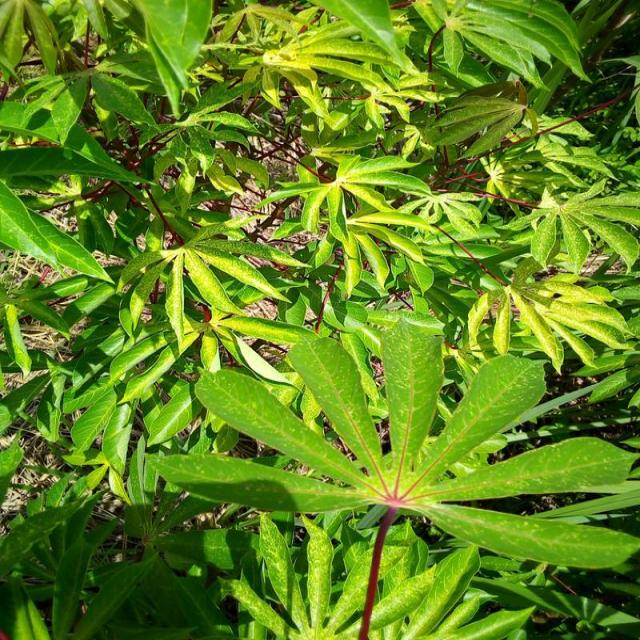cassava leaf: (1, 0, 638, 637), (152, 311, 638, 636)
